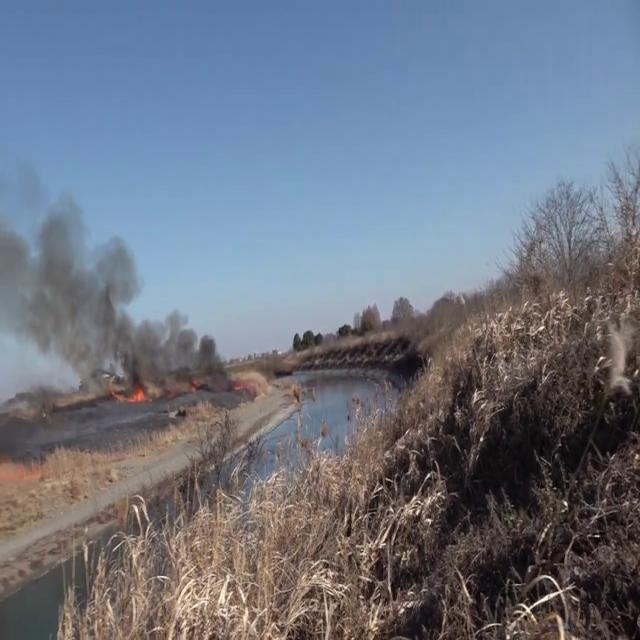Smoke: (0, 181, 232, 407)
